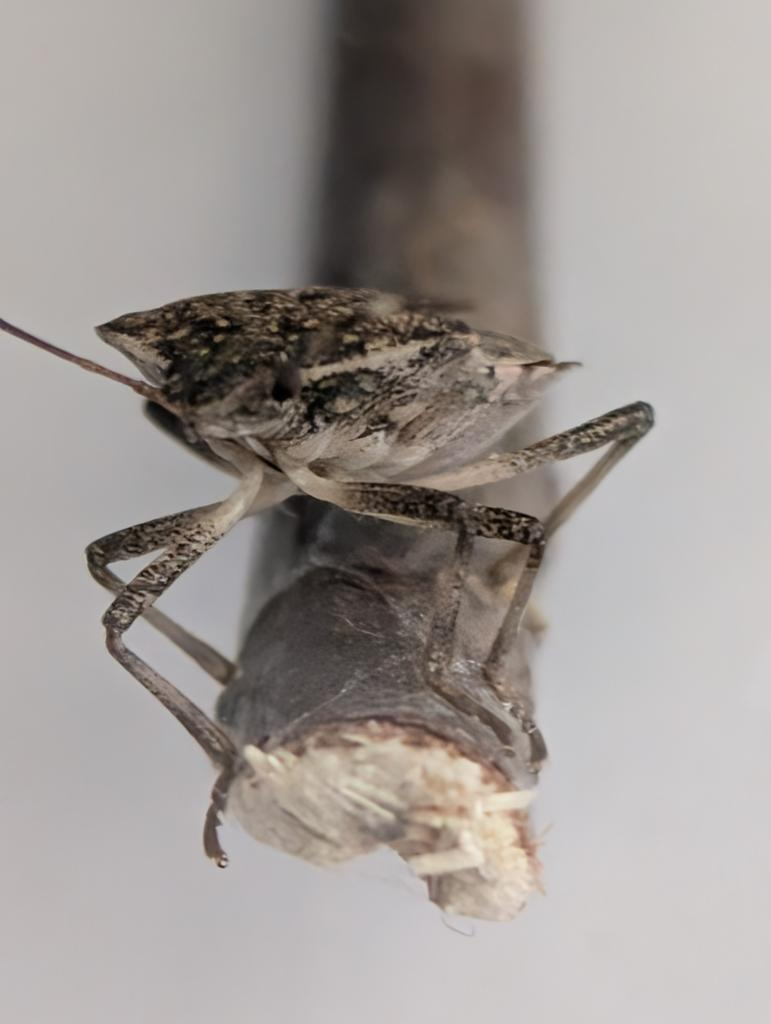stink_bugs: (0, 230, 771, 898)
